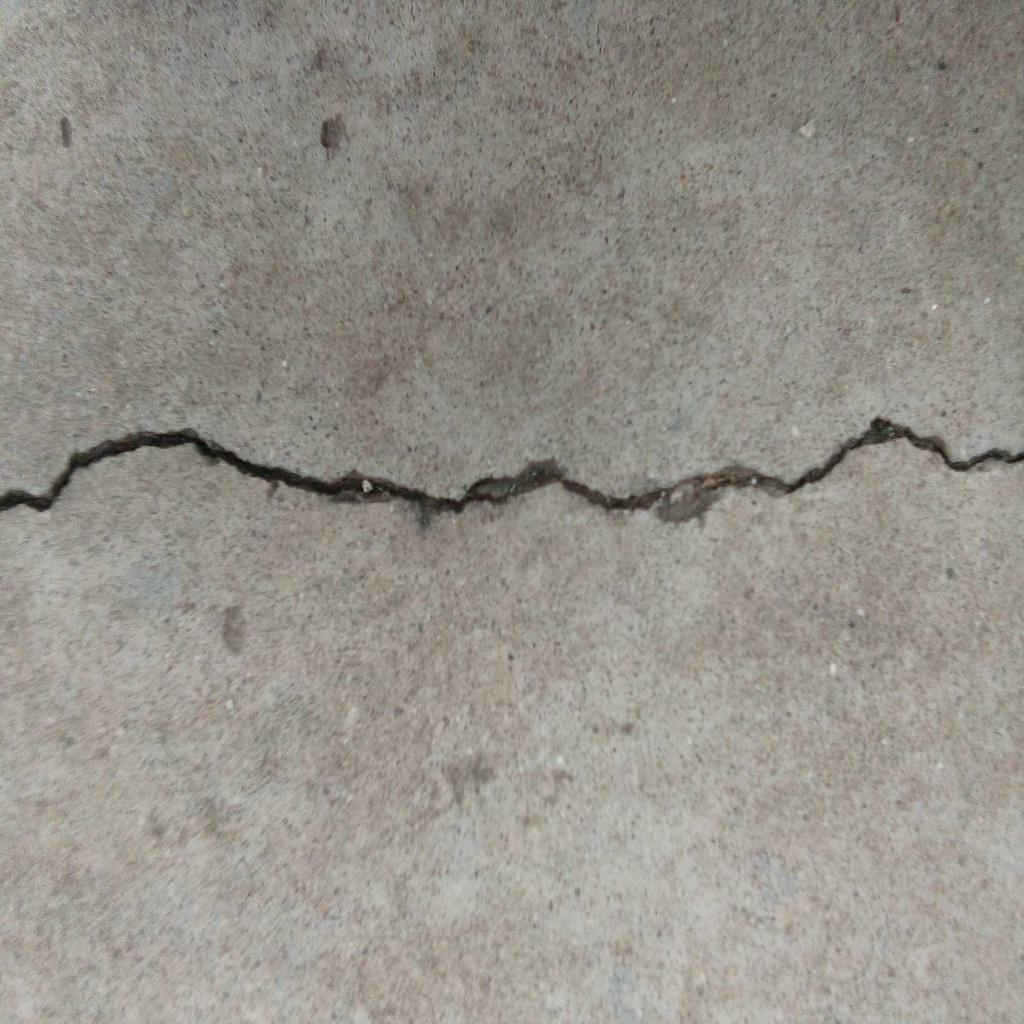Crack: (1, 416, 1024, 525)
